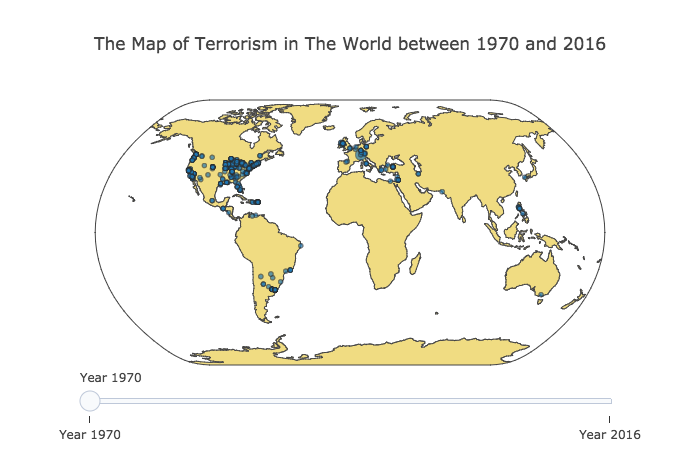

This screenshot's page, from the dashboard's own definition file:
{"tool":"tableau","page":{"name":"Dashboard 1","canvas":[1000,800],"ordinal":0},"visuals":[{"type":"worksheet","title":"Sheet 2","mark":"Circle","box":[0,0,420,800]},{"type":"worksheet","title":"Sheet 1","mark":"Circle","box":[420,0,420,800]},{"type":"legend","title":"Sheet 2","param":"[federated.04id06k0r0qn6o1epfiiu1t74m8r].[none:country_txt:nk]","box":[840,0,160,710]},{"type":"filter","title":"Sheet 1","param":"[federated.04id06k0r0qn6o1epfiiu1t74m8r].[none:iyear:qk]","box":[840,710,160,69]}]}

Visuals, with their boxes on the page's 1000x800 design canvas (x1, y1, x2, y2). These are canvas units, not pixel positions in the 700x450 screenshot, which may show the page scaled, cropped or inside an application window:
"Sheet 2" worksheet (Circle marks): bbox(0, 0, 420, 800)
"Sheet 1" worksheet (Circle marks): bbox(420, 0, 840, 800)
"Sheet 2" legend: bbox(840, 0, 1000, 710)
"Sheet 1" filter: bbox(840, 710, 1000, 779)
